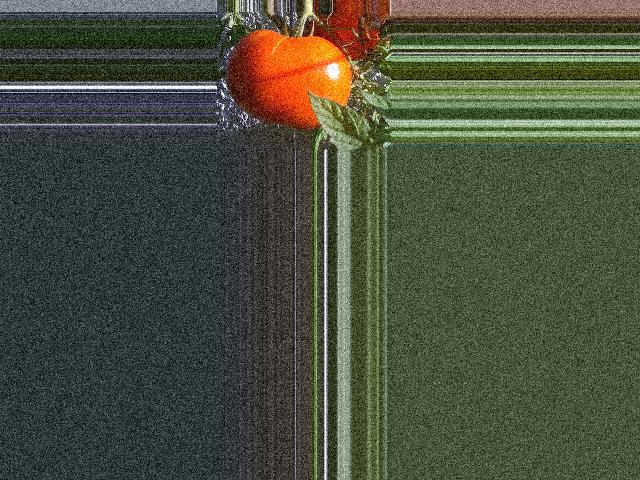tomato: (226, 29, 352, 129)
